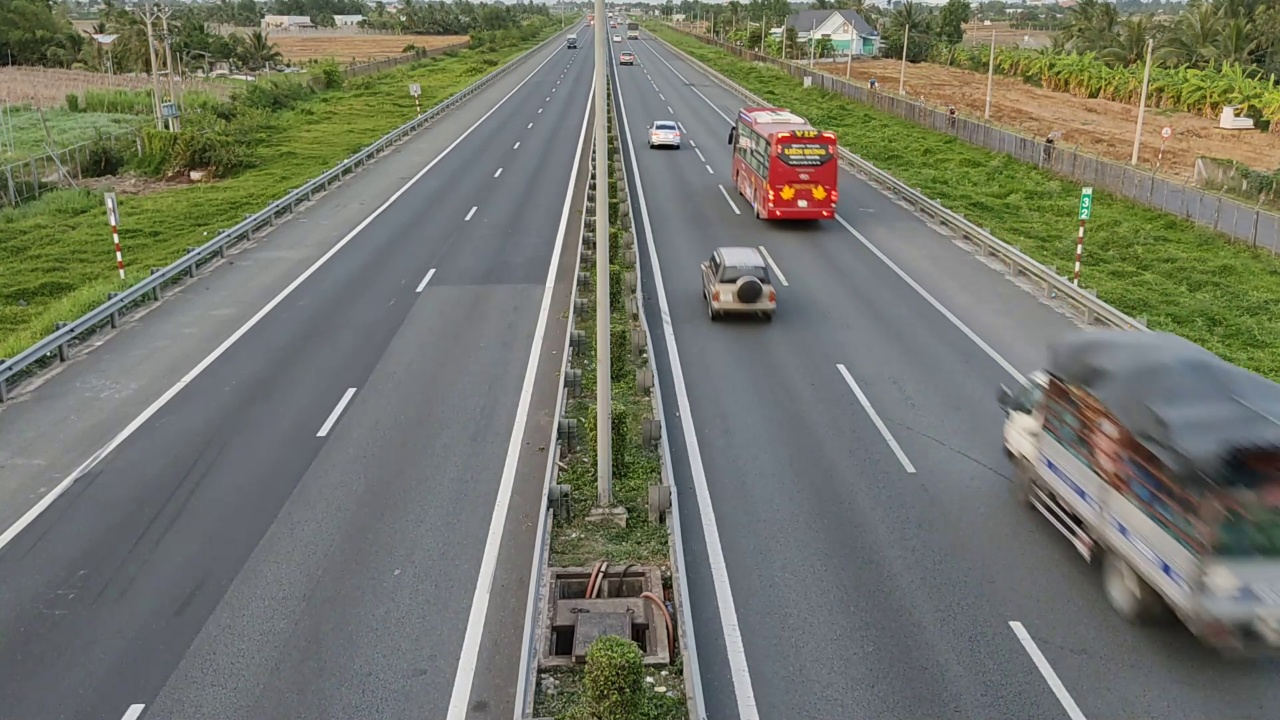bus: (729, 106, 839, 219)
car: (701, 245, 779, 322), (647, 119, 684, 149)
truck: (997, 327, 1279, 660)
